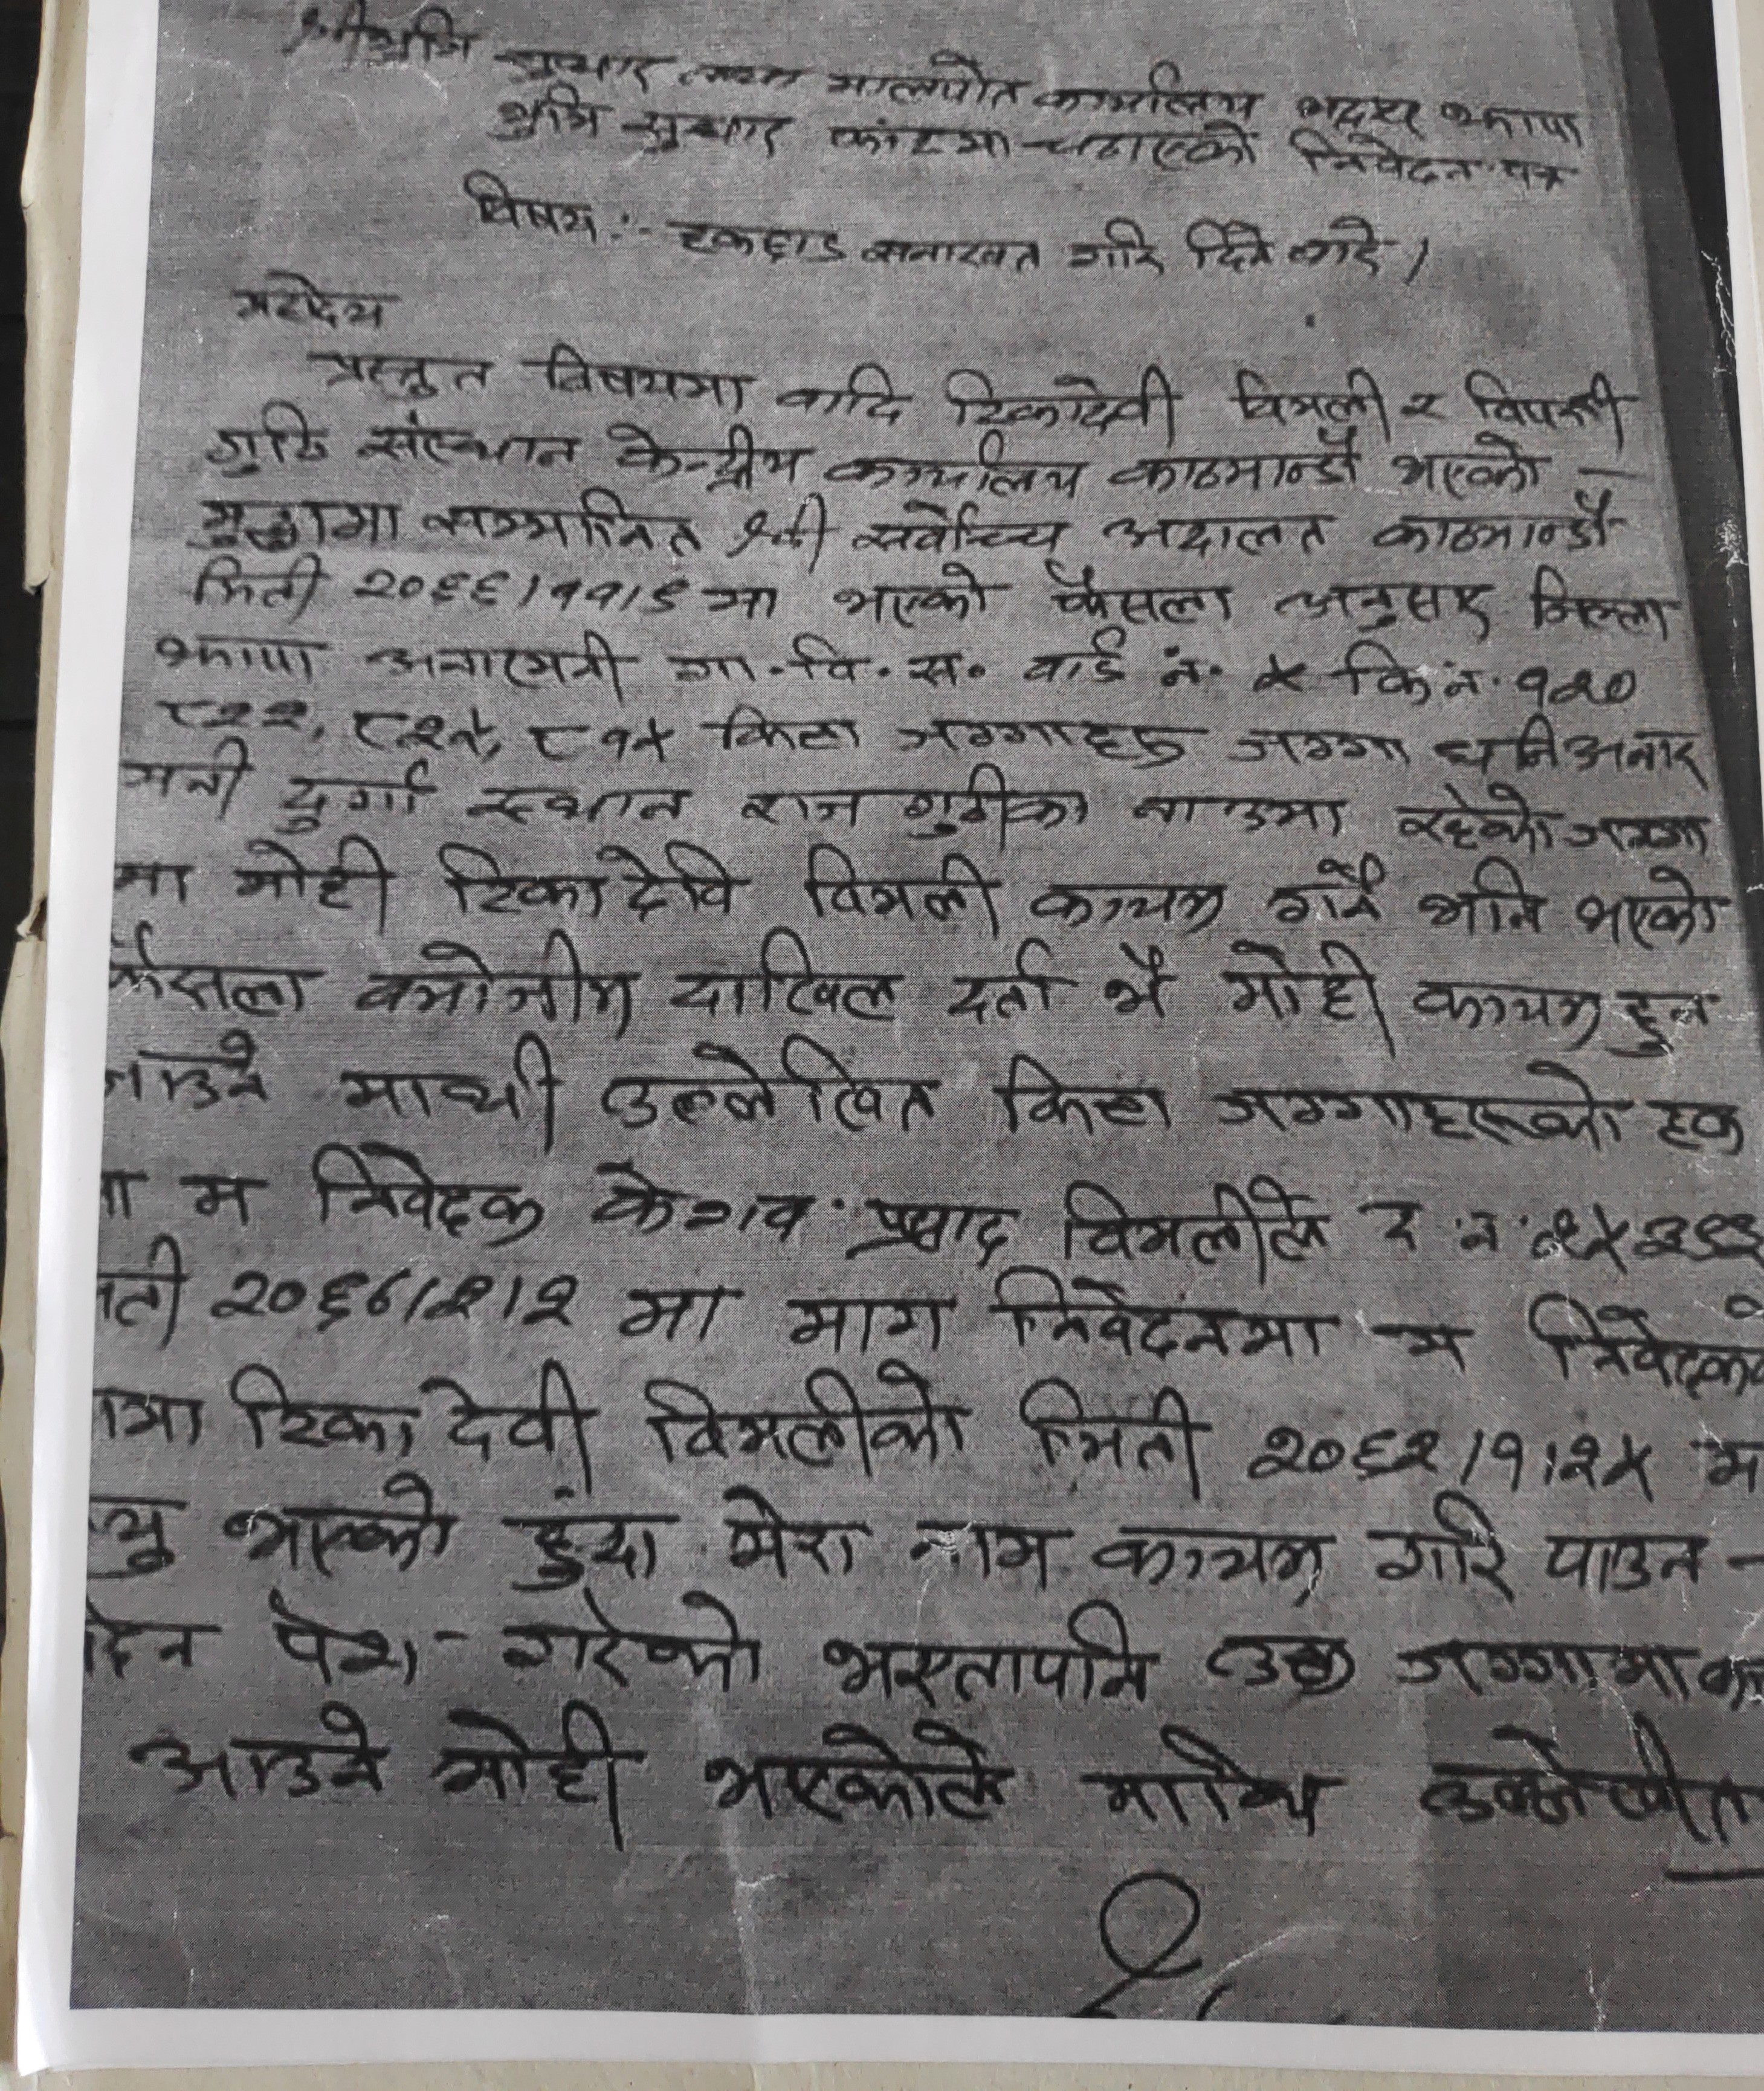text: (1412, 1711, 1759, 1846), (1209, 1050, 1627, 1157), (637, 1360, 975, 1484), (819, 1592, 1157, 1713), (991, 1256, 1337, 1367), (593, 1034, 943, 1143), (698, 1713, 1010, 1832), (348, 926, 642, 1034), (1239, 1417, 1657, 1493), (1085, 1720, 1332, 1846), (432, 1697, 625, 1853), (1053, 1174, 1330, 1277), (128, 1697, 390, 1806), (499, 1592, 765, 1699), (737, 761, 1095, 840), (1524, 1288, 1764, 1405), (306, 1134, 550, 1249), (205, 1262, 588, 1333), (429, 840, 747, 926), (665, 922, 901, 1032), (224, 1470, 462, 1578), (334, 1025, 565, 1130), (1390, 1634, 1696, 1708), (588, 1151, 821, 1248), (102, 917, 313, 1022), (817, 425, 1092, 506), (422, 481, 702, 560), (656, 630, 996, 695), (346, 562, 695, 625), (1015, 1375, 1207, 1486), (1104, 422, 1370, 500), (425, 1351, 595, 1473), (791, 843, 1008, 936), (1220, 936, 1396, 1050), (938, 357, 1183, 437), (226, 1358, 424, 1456), (1089, 1519, 1332, 1598), (364, 626, 634, 696), (894, 707, 1200, 768), (506, 1486, 676, 1592), (1365, 490, 1631, 556), (257, 1591, 432, 1690), (527, 339, 754, 415), (231, 829, 394, 933), (1526, 1199, 1764, 1269), (994, 1050, 1179, 1137), (278, 0, 485, 77), (600, 415, 805, 492), (96, 1029, 278, 1115), (1097, 499, 1337, 563), (1372, 1491, 1512, 1598), (1411, 973, 1606, 1048), (1031, 59, 1267, 121), (716, 1482, 865, 1578), (352, 409, 584, 471), (1039, 556, 1243, 626), (178, 492, 408, 553), (1022, 117, 1262, 175), (1390, 777, 1561, 857), (1570, 863, 1719, 954), (1384, 425, 1559, 502), (826, 47, 1022, 115), (464, 775, 693, 833), (1270, 579, 1496, 637), (275, 756, 438, 835), (850, 502, 1068, 560), (1530, 562, 1678, 646), (828, 563, 1003, 633), (898, 1517, 1064, 1591), (1291, 126, 1484, 189), (779, 1291, 955, 1360), (1414, 857, 1556, 941), (222, 269, 401, 336), (459, 168, 605, 248), (1543, 1528, 1711, 1598), (849, 1193, 1015, 1263), (1232, 359, 1396, 429), (1022, 875, 1234, 929), (945, 940, 1064, 1036), (1129, 791, 1346, 843), (660, 212, 849, 271), (1365, 1186, 1507, 1265), (1204, 1629, 1363, 1699), (198, 399, 336, 479), (304, 346, 497, 404), (1333, 639, 1491, 709), (1456, 366, 1622, 430), (523, 703, 681, 770), (616, 105, 791, 164), (124, 735, 250, 817), (1563, 723, 1710, 793), (826, 114, 1015, 168), (1223, 723, 1412, 777), (1264, 849, 1395, 926), (703, 700, 868, 761), (775, 357, 912, 429), (182, 555, 327, 619), (154, 632, 325, 686), (858, 229, 1047, 278), (1432, 712, 1563, 780), (723, 492, 840, 567), (1614, 983, 1720, 1066), (343, 702, 492, 759), (485, 40, 663, 87), (1563, 805, 1717, 859), (616, 1276, 728, 1349), (151, 691, 317, 738), (1286, 208, 1398, 278), (1017, 623, 1132, 689), (485, 86, 602, 150), (1438, 100, 1593, 149), (1643, 1090, 1752, 1158), (1097, 938, 1181, 1025), (1514, 654, 1636, 712), (1064, 215, 1165, 283), (1179, 213, 1281, 275), (1291, 87, 1428, 131), (676, 58, 819, 98), (1379, 1316, 1474, 1372), (180, 1171, 261, 1228), (105, 854, 196, 905), (698, 574, 782, 626), (1248, 649, 1316, 703), (1153, 646, 1227, 693), (1496, 154, 1580, 192), (1400, 385, 1451, 429)
